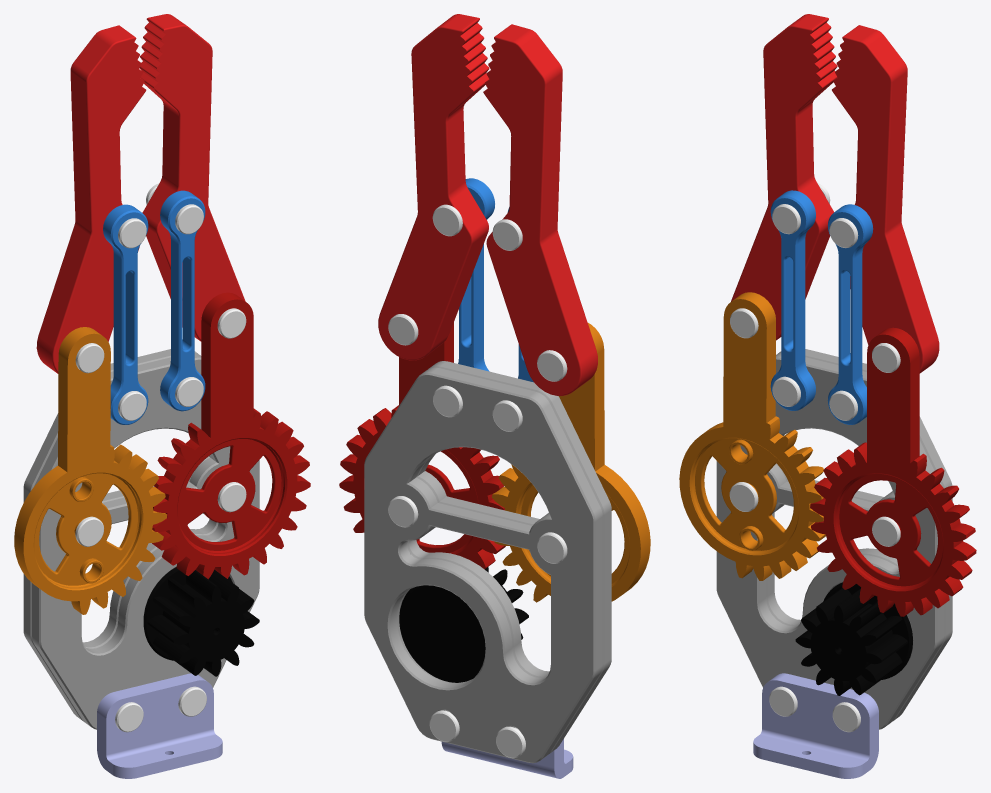
Rendered from RobotGripper.glb.
The picture shows the model from 3 angles, left to right: view 1: azimuth 30°, elevation 25°; view 2: azimuth 150°, elevation 25°; view 3: azimuth 330°, elevation 25°; orthographic projection. The views are drawn at different scales.
Visible parts, largest first — view 1: Solid1.003, Solid1.004, Solid1.002, Solid1.005, Solid1.017, Solid1.001, Solid1, Solid1.008, Solid1.006, Solid1.009, Solid1.016, Solid1.018 (+8 smaller); view 2: Solid1.009, Solid1.005, Solid1.017, Solid1.004, Solid1.002, Solid1.003, Solid1, Solid1.008, Solid1.001, Solid1.010, Solid1.013, Solid1.018 (+7 smaller); view 3: Solid1.003, Solid1.004, Solid1.017, Solid1.002, Solid1.005, Solid1.001, Solid1, Solid1.006, Solid1.008, Solid1.009, Solid1.018, Solid1.011 (+8 smaller).
Part boxes in pixels (x1=…): Solid1.003: x1=152, y1=292, x2=310, y2=579; Solid1.004: x1=14, y1=327, x2=166, y2=614; Solid1.002: x1=32, y1=353, x2=259, y2=729; Solid1.005: x1=36, y1=25, x2=146, y2=373; Solid1.017: x1=139, y1=14, x2=245, y2=341; Solid1.001: x1=97, y1=673, x2=222, y2=778; Solid1: x1=143, y1=567, x2=259, y2=676; Solid1.008: x1=160, y1=190, x2=205, y2=411; Solid1.006: x1=103, y1=204, x2=148, y2=424; Solid1.009: x1=23, y1=349, x2=218, y2=721; Solid1.016: x1=146, y1=183, x2=203, y2=234; Solid1.018: x1=118, y1=218, x2=146, y2=248; Solid1.009: x1=364, y1=367, x2=602, y2=763; Solid1.005: x1=483, y1=24, x2=597, y2=395; Solid1.017: x1=378, y1=14, x2=489, y2=360; Solid1.004: x1=492, y1=323, x2=650, y2=602; Solid1.002: x1=397, y1=361, x2=611, y2=754; Solid1.003: x1=339, y1=322, x2=505, y2=569; Solid1: x1=399, y1=567, x2=528, y2=682; Solid1.008: x1=458, y1=178, x2=494, y2=371; Solid1.001: x1=441, y1=739, x2=573, y2=778; Solid1.010: x1=496, y1=726, x2=525, y2=758; Solid1.013: x1=492, y1=400, x2=522, y2=431; Solid1.018: x1=492, y1=219, x2=522, y2=250; Solid1.003: x1=810, y1=327, x2=976, y2=616; Solid1.004: x1=679, y1=292, x2=825, y2=580; Solid1.017: x1=832, y1=25, x2=939, y2=373; Solid1.002: x1=716, y1=353, x2=943, y2=729; Solid1.005: x1=731, y1=14, x2=837, y2=340; Solid1.001: x1=753, y1=673, x2=878, y2=778; Solid1: x1=795, y1=582, x2=912, y2=695; Solid1.006: x1=770, y1=190, x2=815, y2=410; Solid1.008: x1=827, y1=204, x2=873, y2=424; Solid1.009: x1=766, y1=349, x2=952, y2=721; Solid1.018: x1=772, y1=183, x2=830, y2=234; Solid1.011: x1=729, y1=482, x2=758, y2=511.
Size of the model in its own units: 5.34 by 12.73 by 1.51.
